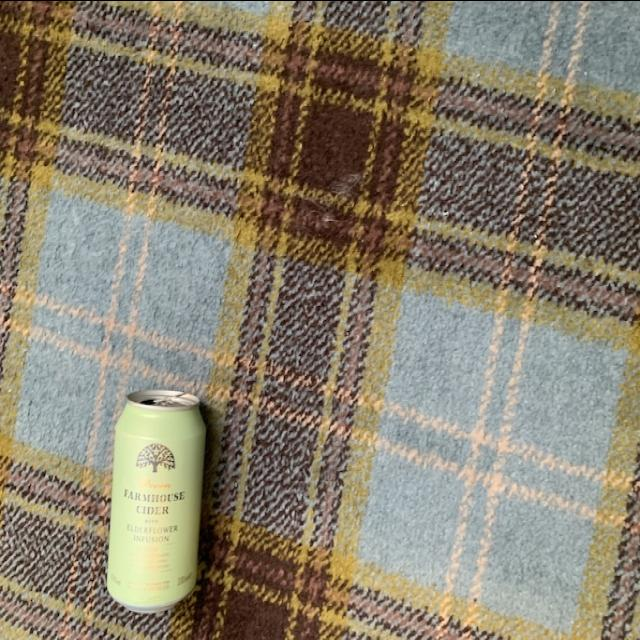litter: (110, 380, 206, 615)
